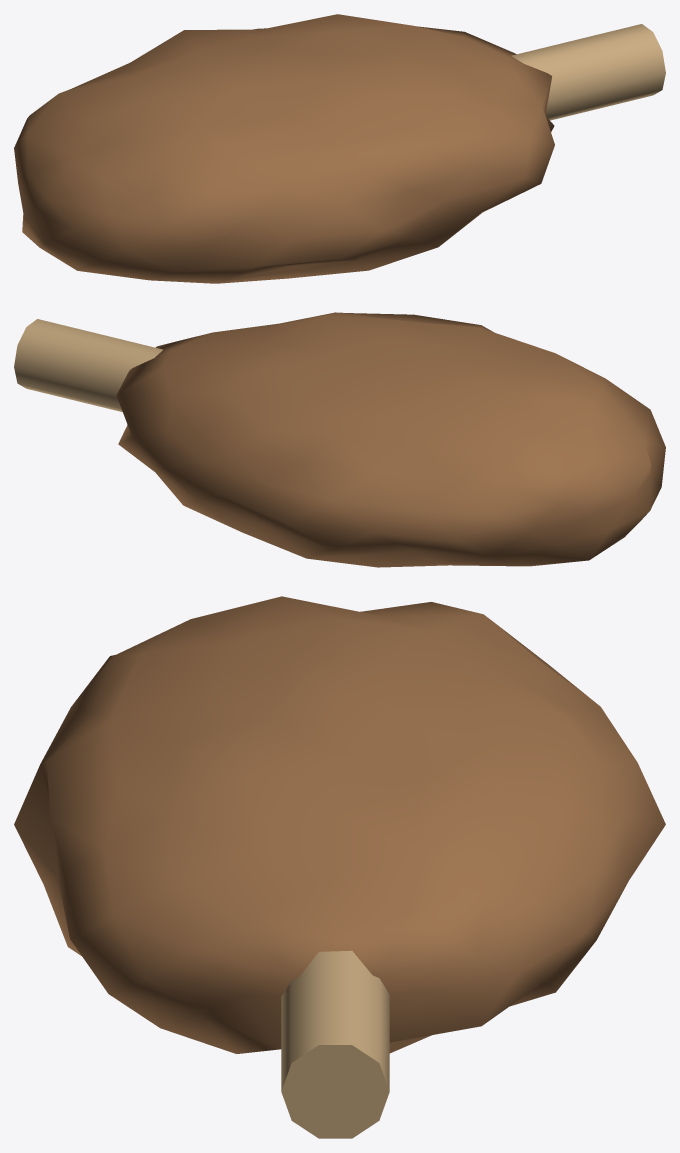
The model's file is cooked_meat.glb.
The picture shows the model from 3 angles, top to bottom: view 1: azimuth 30°, elevation 25°; view 2: azimuth 150°, elevation 25°; view 3: azimuth 270°, elevation 25°; orthographic projection. The views are drawn at different scales.
Visible parts, largest first — view 1: cooked_meat, bone; view 2: cooked_meat, bone; view 3: cooked_meat, bone.
Boxes of the visible parts, box(x1,y1,x2,y2) form: cooked_meat: box(14, 14, 554, 283); bone: box(511, 24, 665, 120); cooked_meat: box(116, 312, 665, 567); bone: box(14, 319, 162, 411); cooked_meat: box(14, 596, 665, 1053); bone: box(281, 950, 389, 1138).
Bounding box in the file's own units: 0.2332 × 0.0622 × 0.1443.
